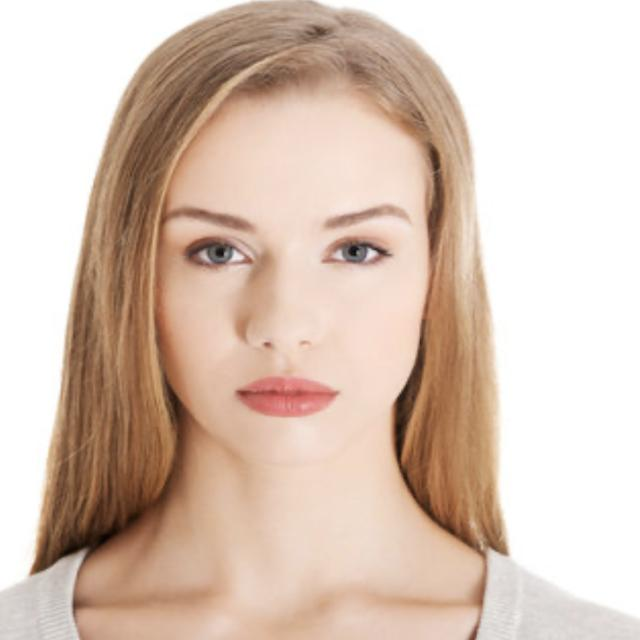natural: (83, 91, 475, 474)
